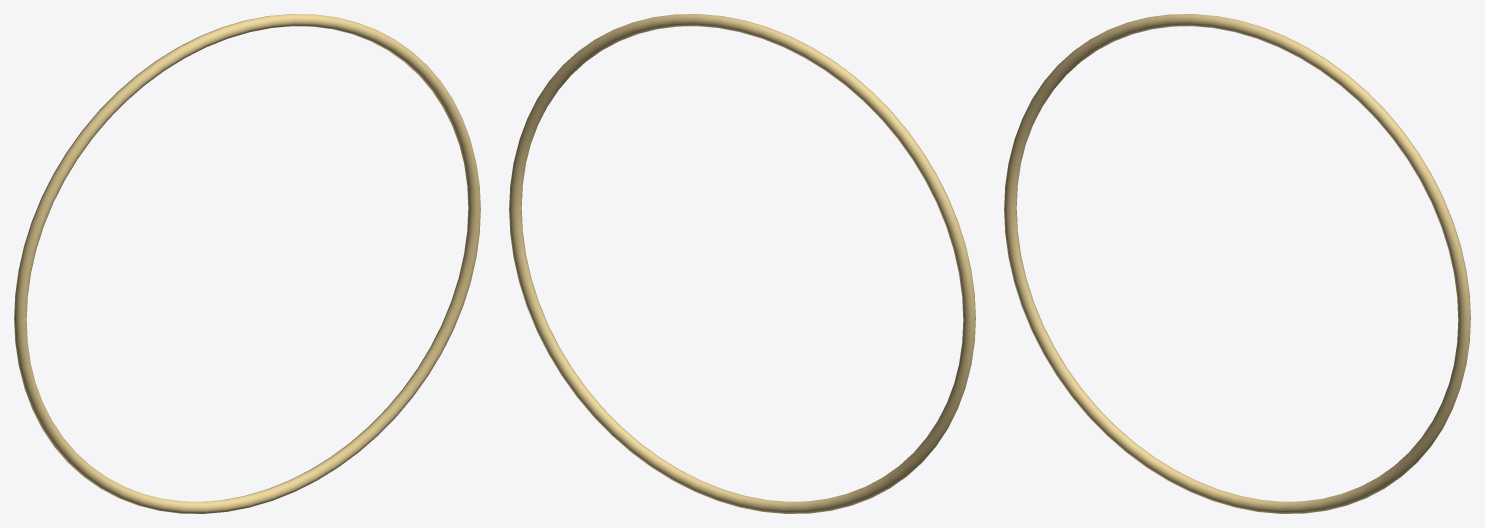
File: unit-circle-ring.glb
3 renders of one model, left to right at view 1: azimuth 30°, elevation 25°; view 2: azimuth 150°, elevation 25°; view 3: azimuth 330°, elevation 25°, orthographic.
Visible parts, largest first — view 1: unit_circle; view 2: unit_circle; view 3: unit_circle.
Part boxes in pixels (bbox=[...]): unit_circle: bbox=[14, 14, 480, 513]; unit_circle: bbox=[509, 14, 975, 513]; unit_circle: bbox=[1004, 14, 1470, 513].
Bounding box in the file's own units: 2.05 × 2.05 × 0.05.
